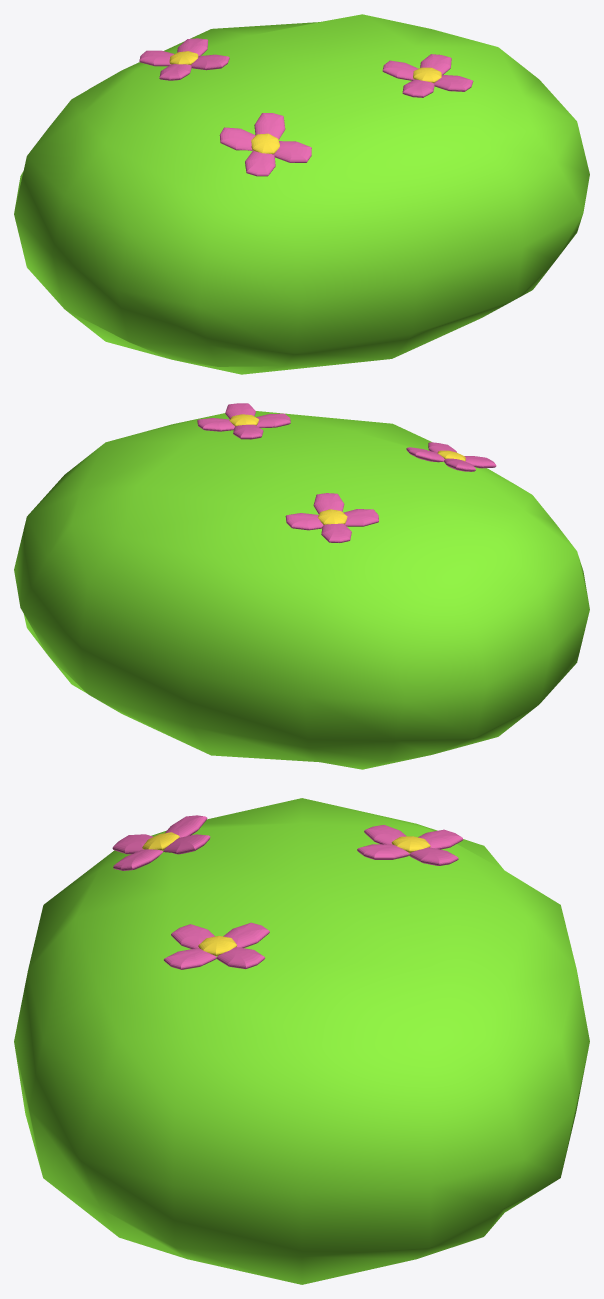
Rendered from BushWithFlowers.fbx.
3 renders of one model, top to bottom at view 1: azimuth 30°, elevation 25°; view 2: azimuth 150°, elevation 25°; view 3: azimuth 270°, elevation 25°, orthographic. The views are drawn at different scales.
Visible parts, largest first — view 1: Cube.001; view 2: Cube.001; view 3: Cube.001.
Boxes of the visible parts, x1,y1,x2,y2 form: Cube.001: (14,14,589,374); Cube.001: (14,403,589,769); Cube.001: (14,798,589,1284).
Size of the model in its own units: 198 by 96.17 by 159.
